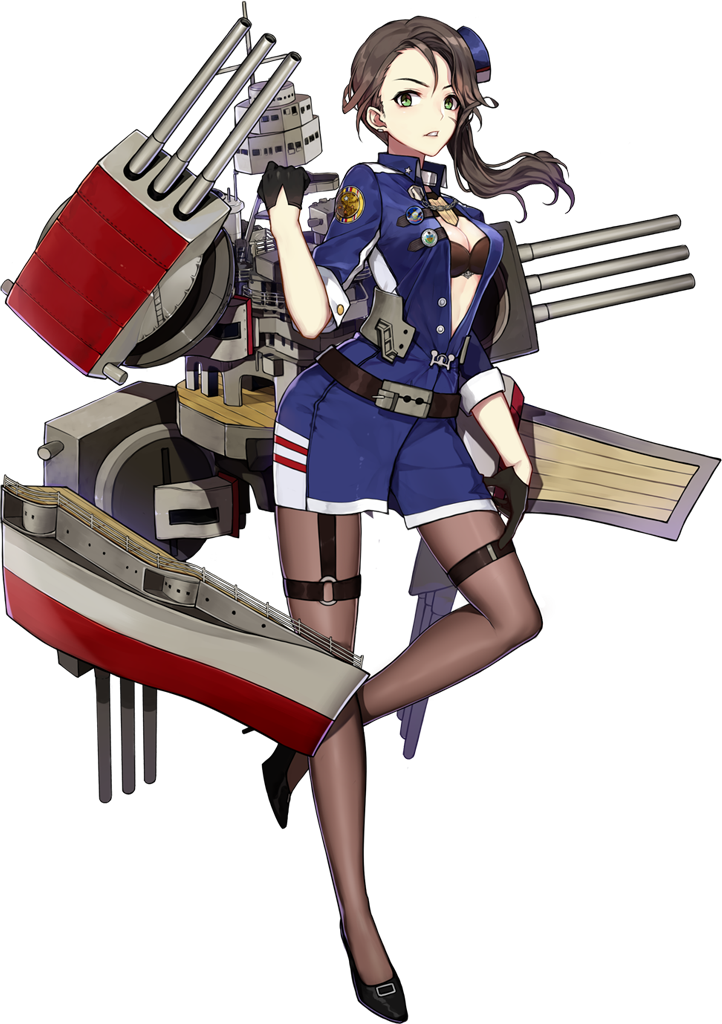person: (107, 1, 559, 788)
